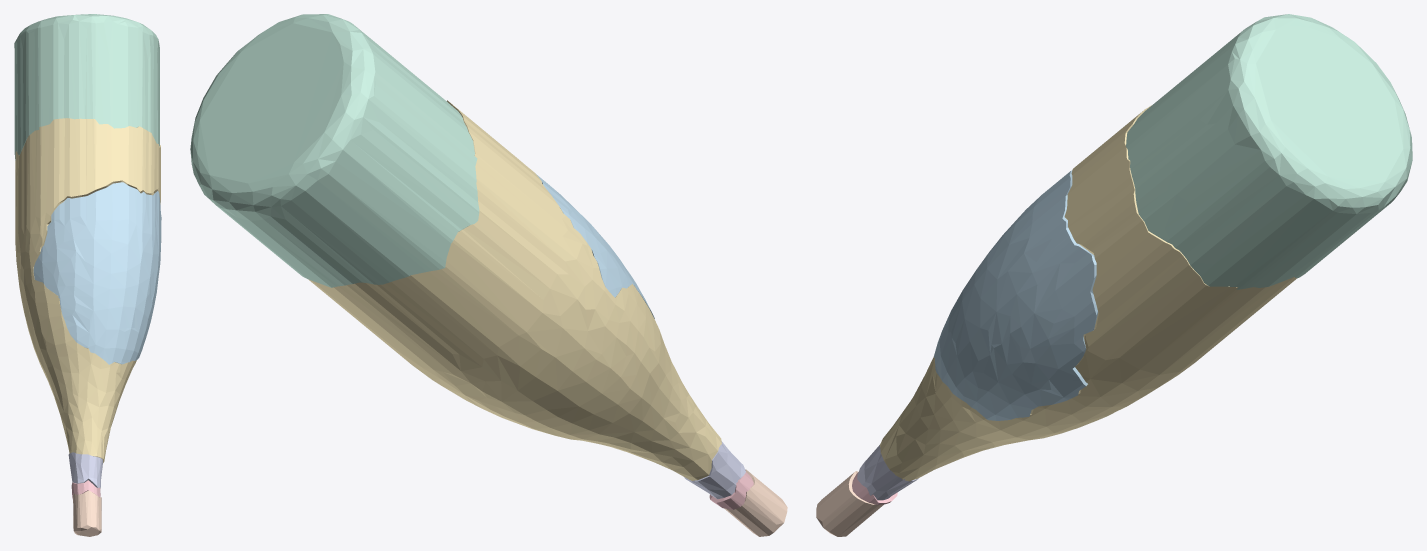
The model's file is view_assembly_-1_colored.glb.
3 renders of one model, left to right at view 1: azimuth 30°, elevation 25°; view 2: azimuth 150°, elevation 25°; view 3: azimuth 270°, elevation 25°, orthographic. The views are drawn at different scales.
Visible parts, largest first — view 1: world; view 2: world; view 3: world.
Boxes of the visible parts, box(x1,y1,x2,y2) form: world: box(14, 14, 161, 536); world: box(190, 14, 787, 536); world: box(816, 14, 1412, 536).
Bounding box in the file's own units: 0.5538 × 0.9178 × 0.8108.
